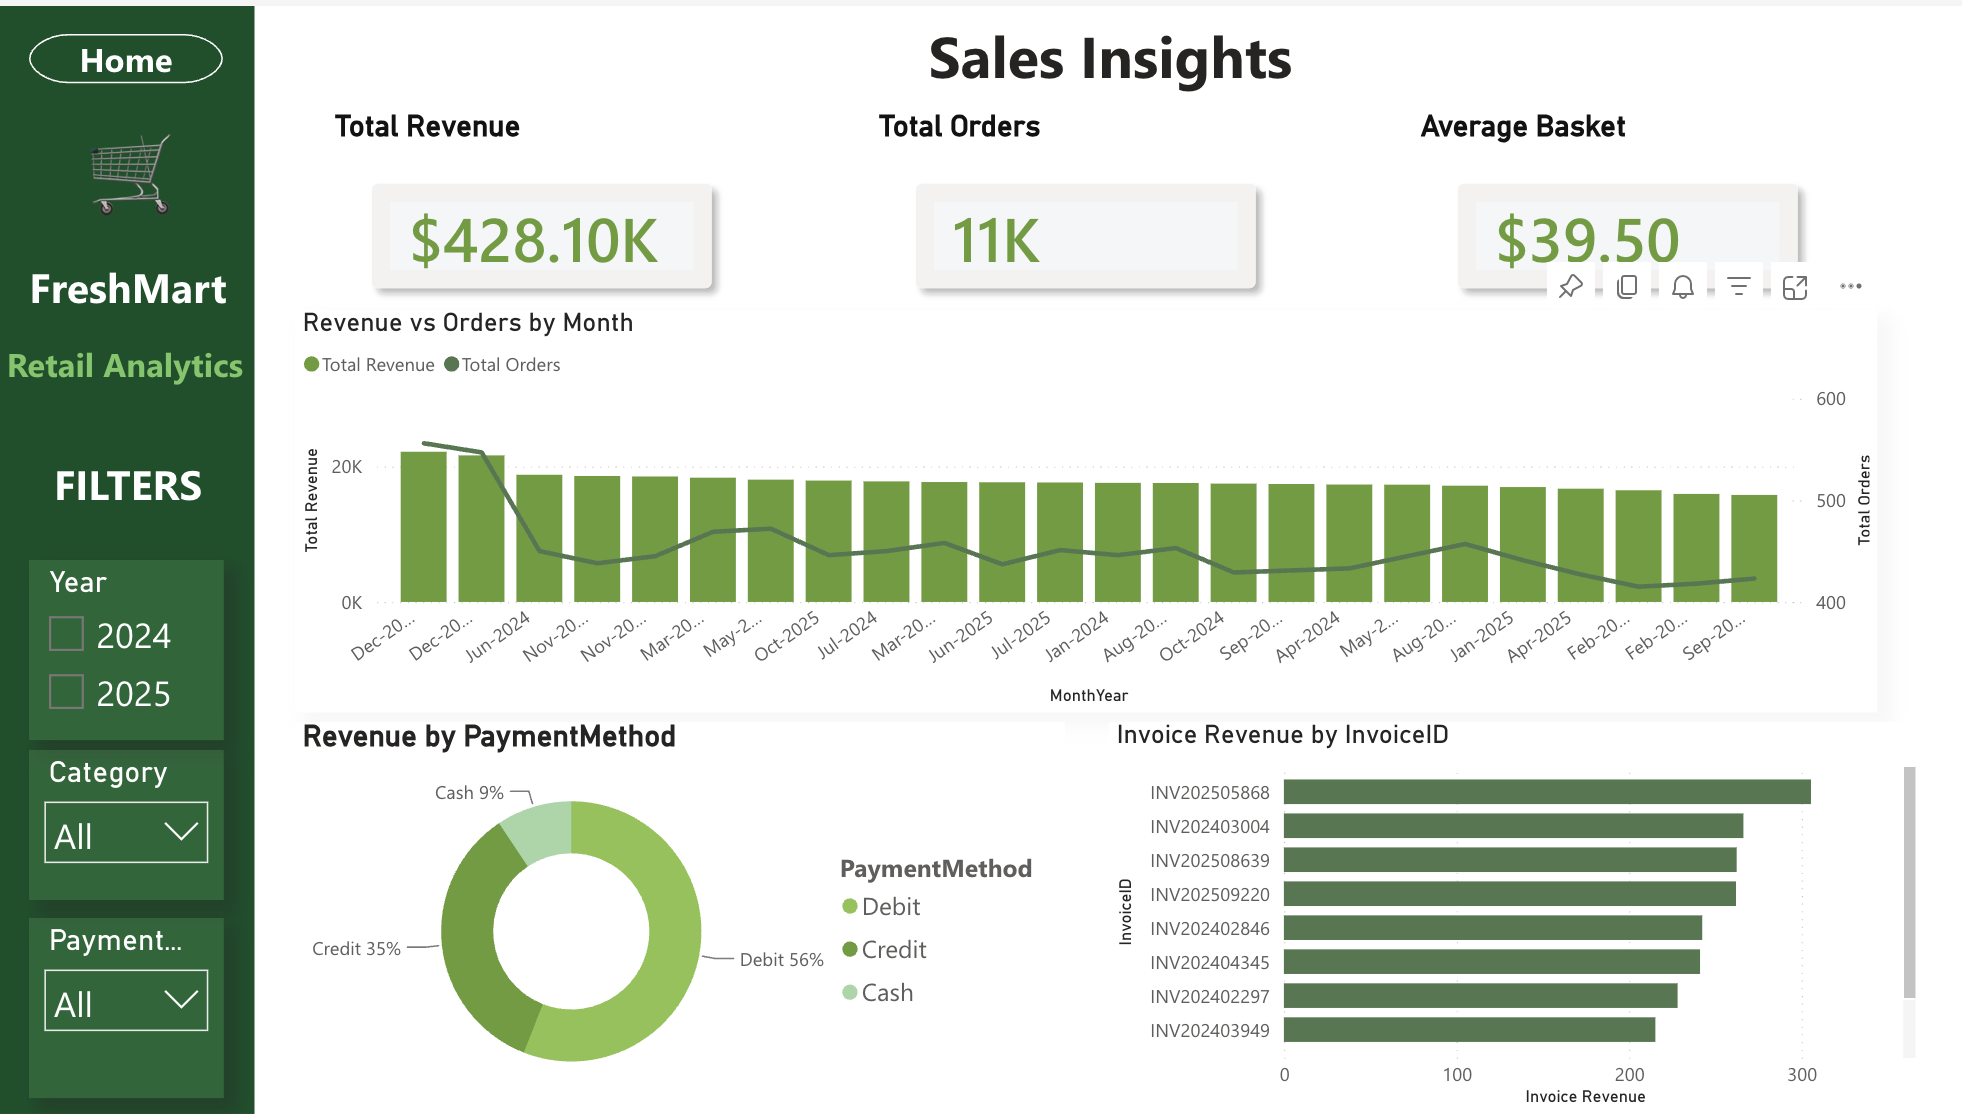

The page's visual inventory and layout, read from the dashboard file:
{"tool":"powerbi","page":{"name":"Sales Insights","canvas":[1280,720],"ordinal":2},"visuals":[{"type":"shape","box":[0,0,166.1,719.9],"z":0},{"type":"textbox","box":[353.2,1.7,737.3,67.2],"z":1000},{"type":"cardVisual","title":"Total Revenue","fields":{"Data":["Measure.Total Revenue"]},"box":[212.8,68.8,279,144],"z":2000},{"type":"cardVisual","title":"Total Orders ","fields":{"Data":["Measure.Total Orders"]},"box":[566.4,68.8,279,144],"z":3000},{"type":"cardVisual","title":"Average Basket","fields":{"Data":["Measure.Average Basket"]},"box":[918.4,68.8,279.1,144],"z":4000},{"type":"lineClusteredColumnComboChart","title":"Revenue vs Orders by Month","fields":{"Category":["DateDimension.MonthYear"],"Y":["Measure.Total Revenue"],"Y2":["Measure.Total Orders"]},"box":[192,197.3,1028,261.3],"z":5000},{"type":"donutChart","title":"Revenue by PaymentMethod","fields":{"Category":["SalesFact.PaymentMethod"],"Y":["Measure.Total Revenue"]},"box":[192,465.3,500,254.7],"z":6000},{"type":"clusteredBarChart","fields":{"Category":["SalesFact.InvoiceID"],"Y":["Measure.Invoice Revenue"]},"box":[721.8,465.8,529,254],"z":7000},{"type":"textbox","box":[0,52.8,166.4,430.4],"z":8000},{"type":"pageNavigator","box":[19.2,17.6,126.4,32],"z":9000},{"type":"textbox","box":[1.6,268.8,164.8,249.6],"z":9001},{"type":"slicer","fields":{"Values":["DateDimension.Year"]},"box":[19.2,360,126.4,116.8],"z":9002},{"type":"slicer","fields":{"Values":["Categories.CategoryName"]},"box":[19.2,483.2,126.4,97.6],"z":9003},{"type":"slicer","fields":{"Values":["SalesFact.PaymentMethod"]},"box":[19.2,592,126.4,116.8],"z":9004}]}

Visuals, with their boxes on the page's 1280x720 design canvas (x1, y1, x2, y2). These are canvas units, not pixel positions in the 1962x1114 screenshot, which may show the page scaled, cropped or inside an application window:
shape: 0/0/166/720
textbox: 353/2/1090/69
"Total Revenue" cardVisual: 213/69/492/213
"Total Orders " cardVisual: 566/69/845/213
"Average Basket" cardVisual: 918/69/1198/213
"Revenue vs Orders by Month" lineClusteredColumnComboChart: 192/197/1220/459
"Revenue by PaymentMethod" donutChart: 192/465/692/720
clusteredBarChart - SalesFact.InvoiceID x Measure.Invoice Revenue: 722/466/1251/720
textbox: 0/53/166/483
pageNavigator: 19/18/146/50
textbox: 2/269/166/518
slicer - DateDimension.Year: 19/360/146/477
slicer - Categories.CategoryName: 19/483/146/581
slicer - SalesFact.PaymentMethod: 19/592/146/709
